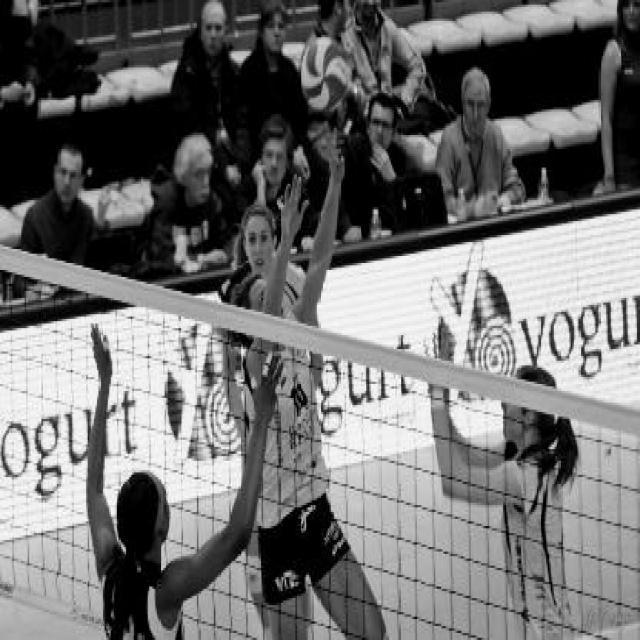volleyball: (298, 37, 352, 111)
